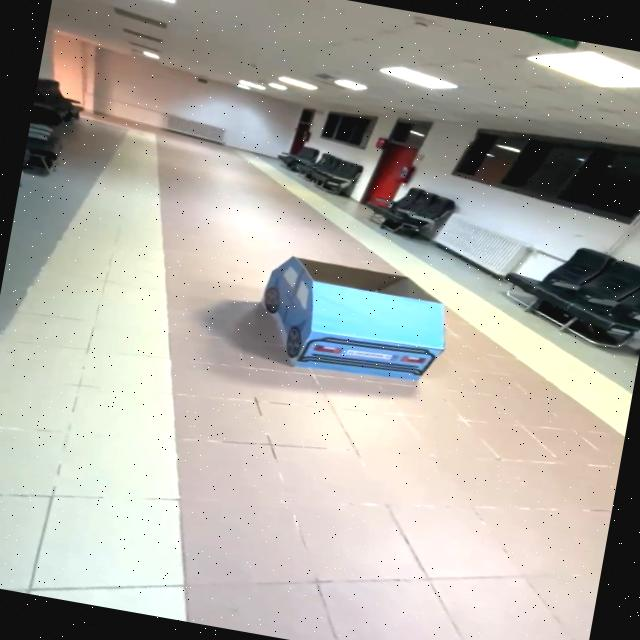blue_car: (228, 233, 498, 416)
